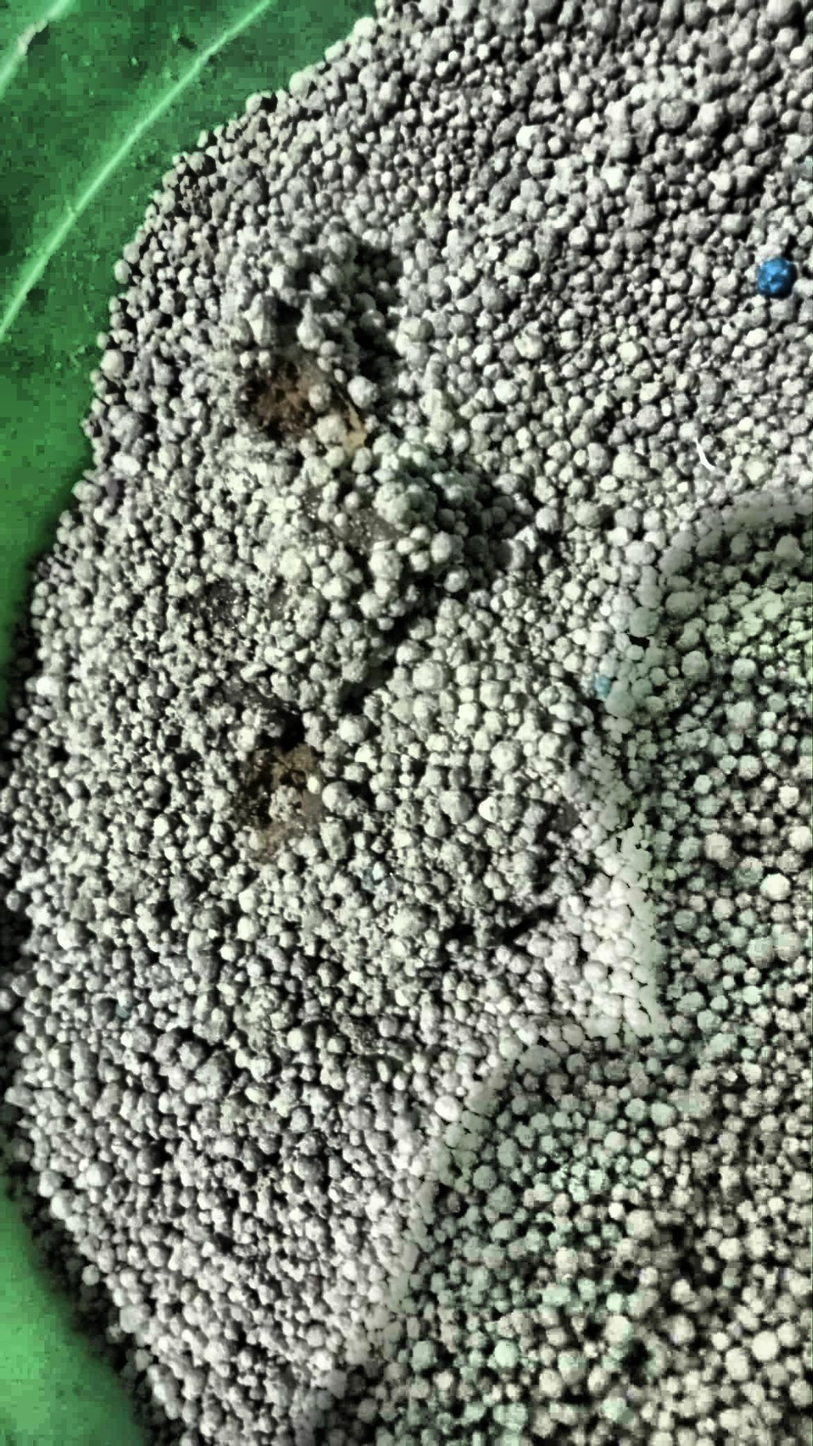poop: (228, 206, 442, 722)
